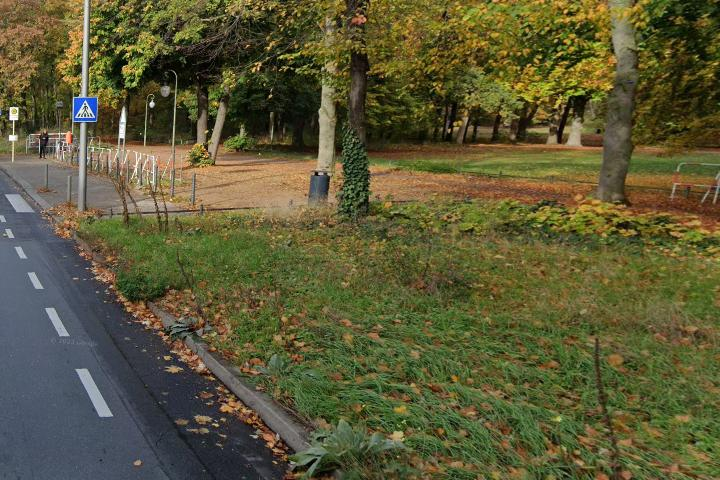traffic_sign: (72, 96, 98, 123)
